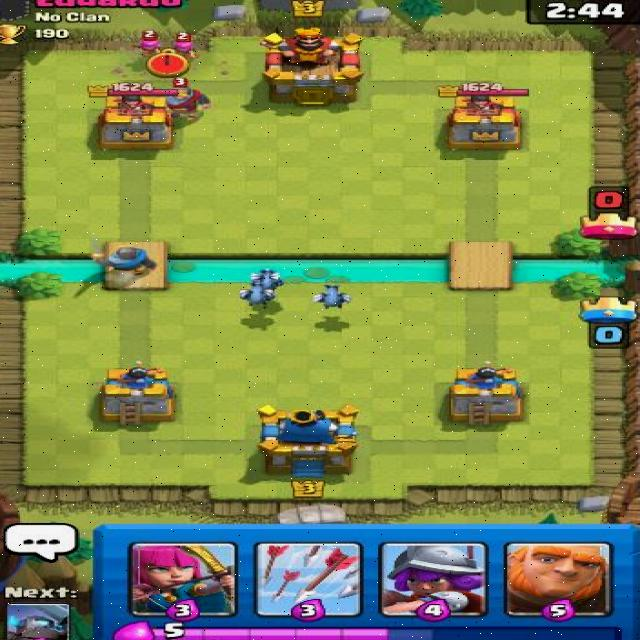Enemy-Archer: (167, 28, 202, 64), (131, 28, 165, 62)
Enemy-Knight: (151, 76, 216, 115)
Player-Knight: (85, 235, 162, 278)
Player-Minion: (307, 281, 355, 312), (236, 280, 280, 311), (248, 266, 288, 293)
